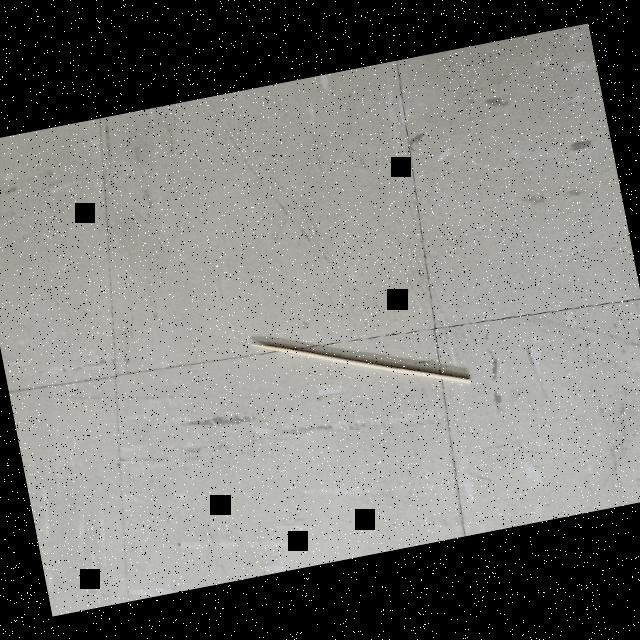stick: (244, 292, 476, 430)
